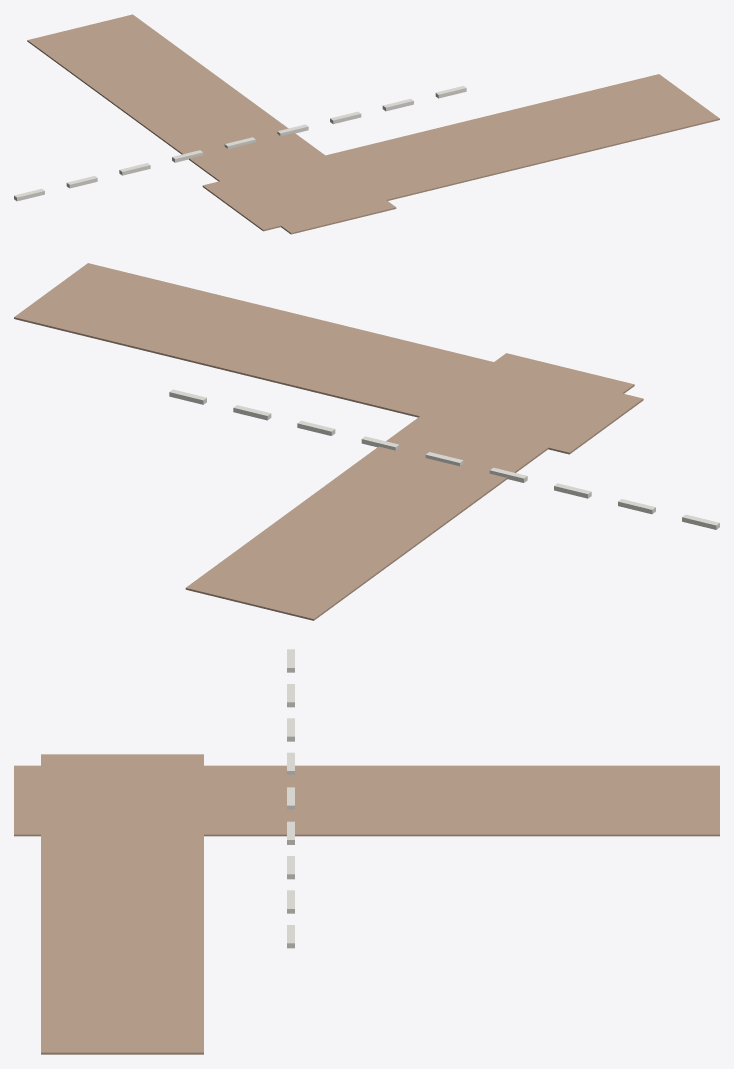
Rendered from nervix_street.glb.
3 renders of one model, top to bottom at view 1: azimuth 30°, elevation 25°; view 2: azimuth 150°, elevation 25°; view 3: azimuth 270°, elevation 25°, orthographic. The views are drawn at different scales.
Visible parts, largest first — view 1: street_ew, street_ns; view 2: street_ew, street_ns; view 3: street_ns, street_ew.
Boxes of the visible parts, x1,y1,x2,y2 form: street_ew: [202, 74, 719, 231]; street_ns: [27, 14, 396, 234]; street_ew: [14, 263, 643, 454]; street_ns: [185, 353, 634, 620]; street_ns: [14, 765, 719, 836]; street_ew: [41, 754, 203, 1054].
Bounding box in the file's own units: 34.8 × 0.23 × 26.
